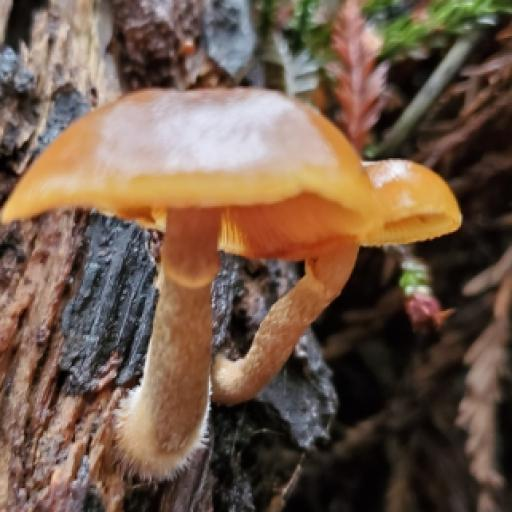mushroom: (3, 78, 462, 366)
